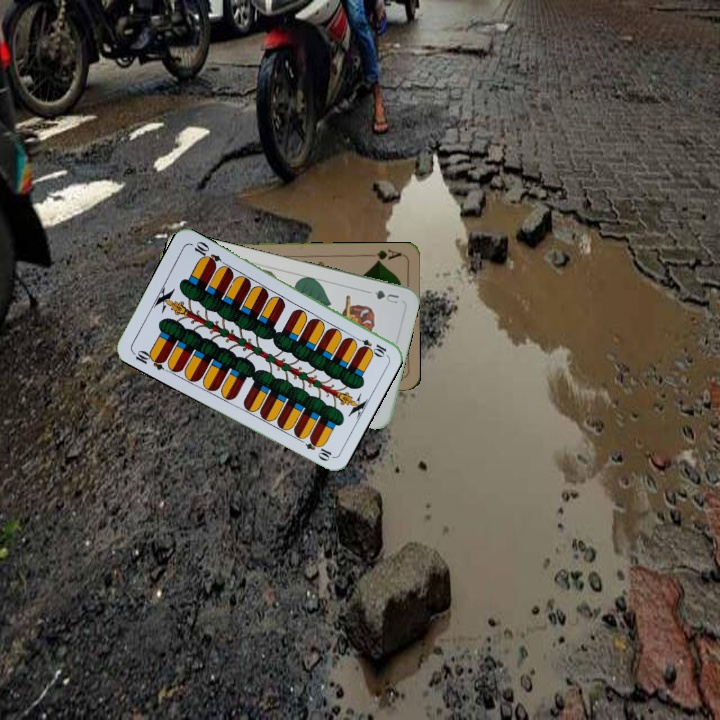E10: (128, 346, 168, 373), (350, 333, 389, 358)
GA: (363, 246, 403, 265)
GU: (364, 286, 401, 306)
